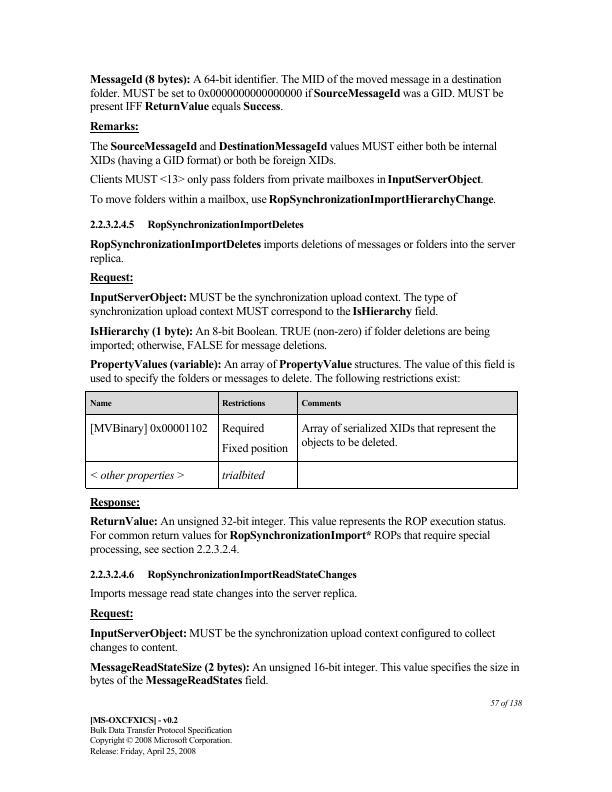table: (85, 391, 520, 489)
text: (88, 514, 507, 554), (87, 73, 505, 113), (88, 237, 523, 268), (86, 325, 495, 353), (86, 661, 523, 687), (86, 358, 517, 384), (87, 140, 499, 167), (87, 626, 497, 653), (86, 290, 462, 318), (87, 714, 234, 758), (88, 192, 499, 205), (85, 567, 361, 586), (87, 172, 487, 185), (85, 589, 361, 602), (82, 217, 309, 230), (87, 118, 140, 135), (87, 270, 136, 286), (91, 495, 143, 510), (86, 606, 136, 621), (484, 694, 528, 710)
